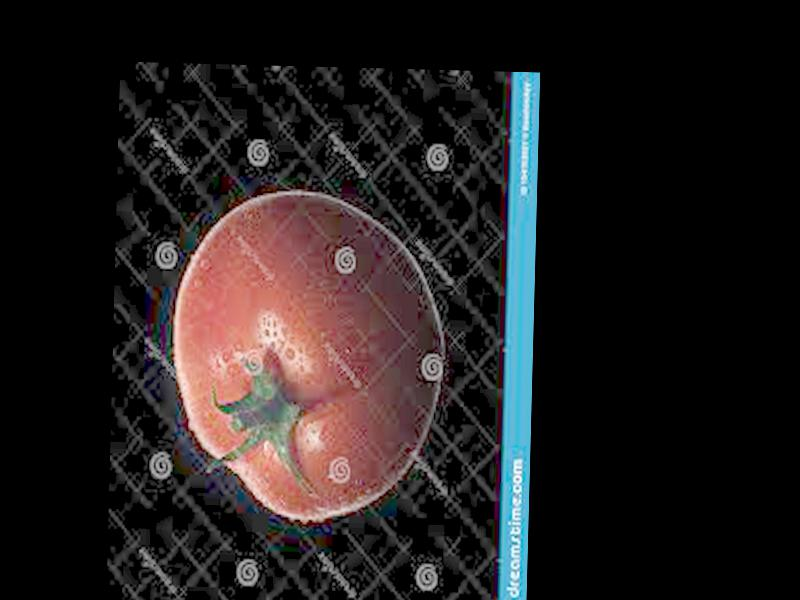Tomato: (168, 186, 445, 524)
